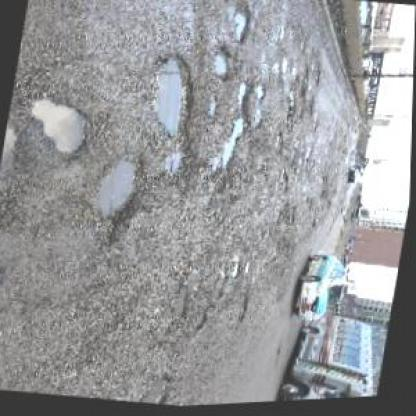pothole: (143, 51, 205, 146), (24, 93, 97, 161), (90, 151, 148, 228), (219, 115, 250, 175), (142, 374, 178, 408), (209, 49, 238, 86), (227, 11, 254, 50), (174, 287, 196, 325), (232, 82, 252, 116), (0, 252, 12, 303), (254, 86, 269, 105)
